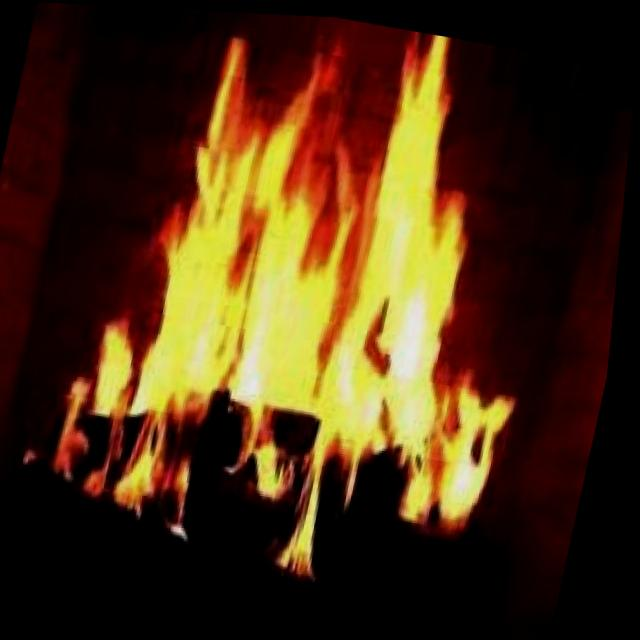Fire: (16, 2, 604, 621)
